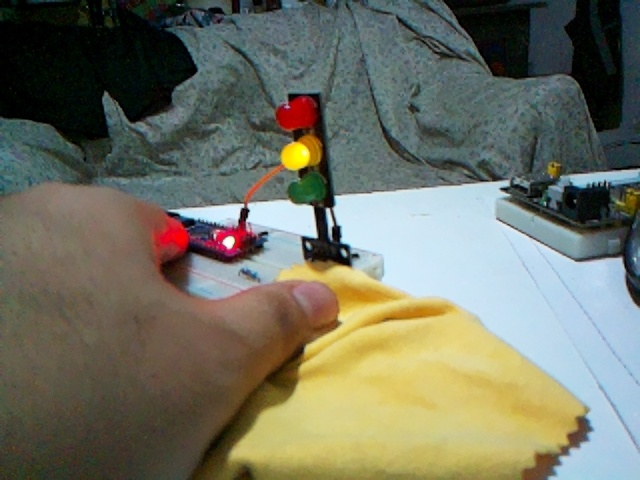traffic_light_yellow: (278, 95, 346, 263)
